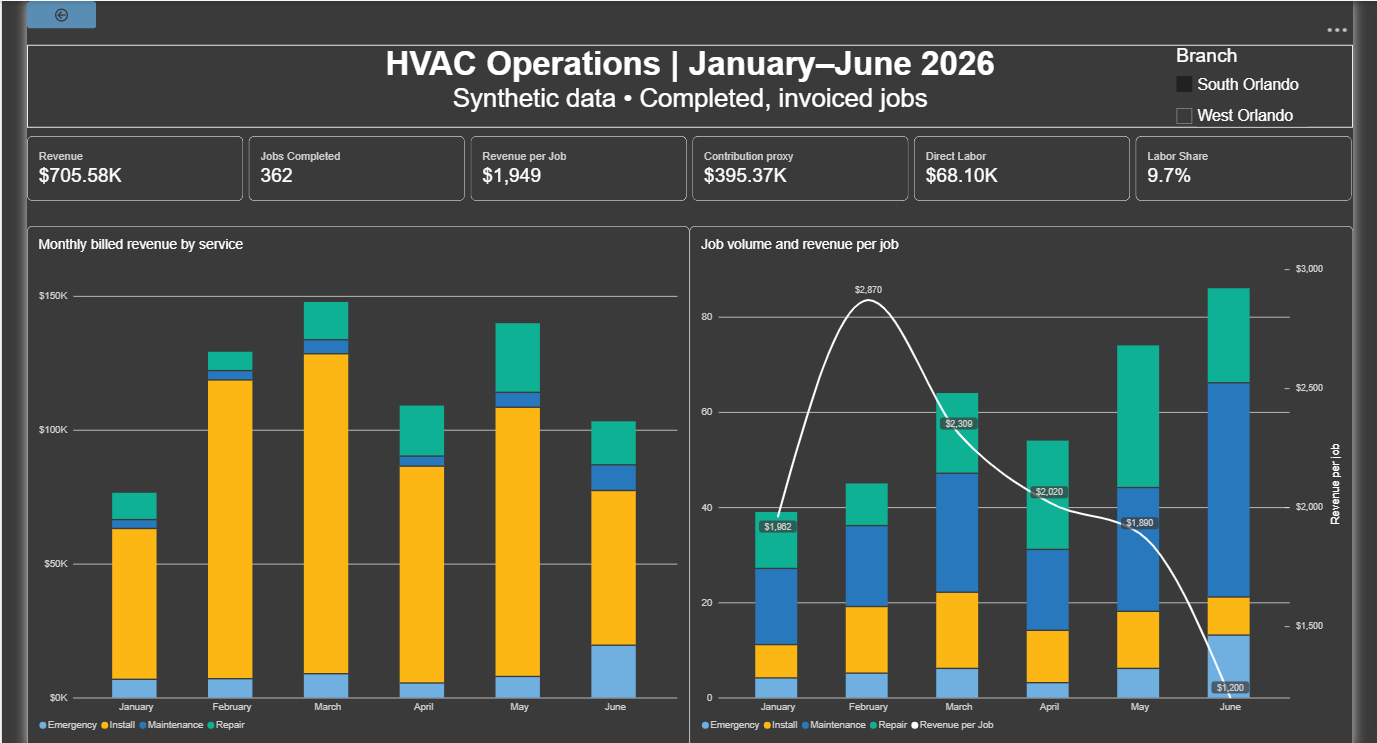

Layout of this report page (visuals, bound fields, positions):
{"tool":"powerbi","page":{"name":"Operations overview","canvas":[1920,1080],"ordinal":0},"visuals":[{"type":"cardVisual","fields":{"Data":["FactJobs.Revenue","FactJobs.Jobs Completed","FactJobs.Revenue per Job","FactJobs.Contribution","FactJobs.Direct Labor","FactJobs.Labor Share"]},"box":[0,195.4,1920.1,94.1],"z":0},{"type":"columnChart","title":"Monthly billed revenue by service","fields":{"Category":["FactJobs.MonthStart.Variation.Date Hierarchy.Year","FactJobs.MonthStart.Variation.Date Hierarchy.Quarter","FactJobs.MonthStart.Variation.Date Hierarchy.Month","FactJobs.MonthStart.Variation.Date Hierarchy.Day"],"Series":["FactJobs.service_type"],"Y":["FactJobs.Revenue"]},"box":[0,325.7,959.1,754.6],"z":1000},{"type":"lineStackedColumnComboChart","title":"Job volume and revenue per job","fields":{"Category":["FactJobs.MonthStart.Variation.Date Hierarchy.Year","FactJobs.MonthStart.Variation.Date Hierarchy.Quarter","FactJobs.MonthStart.Variation.Date Hierarchy.Month","FactJobs.MonthStart.Variation.Date Hierarchy.Day"],"Series":["FactJobs.service_type"],"Y":["FactJobs.Jobs Completed"],"Y2":["FactJobs.Revenue per Job"]},"box":[959.1,325.7,960.9,754.6],"z":2000},{"type":"actionButton","box":[0,0,100,40],"z":3000},{"type":"textbox","box":[0,63.3,1920.1,119.4],"z":4000},{"type":"slicer","fields":{"Values":["FactJobs.branch"]},"box":[1655.3,63.3,197.4,132.2],"z":5500}]}

Visuals, with their boxes on the page's 1920x1080 design canvas (x1, y1, x2, y2). These are canvas units, not pixel positions in the 1377x743 screenshot, which may show the page scaled, cropped or inside an application window:
cardVisual - FactJobs.Revenue x FactJobs.Jobs Completed: l=0, t=195, r=1920, b=290
"Monthly billed revenue by service" columnChart: l=0, t=326, r=959, b=1080
"Job volume and revenue per job" lineStackedColumnComboChart: l=959, t=326, r=1920, b=1080
actionButton: l=0, t=0, r=100, b=40
textbox: l=0, t=63, r=1920, b=183
slicer - FactJobs.branch: l=1655, t=63, r=1853, b=196
